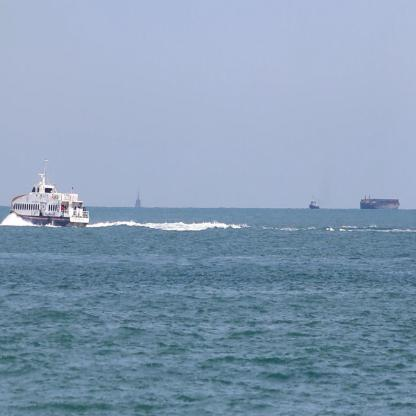Container Ship: (359, 192, 401, 211), (308, 191, 323, 210)
